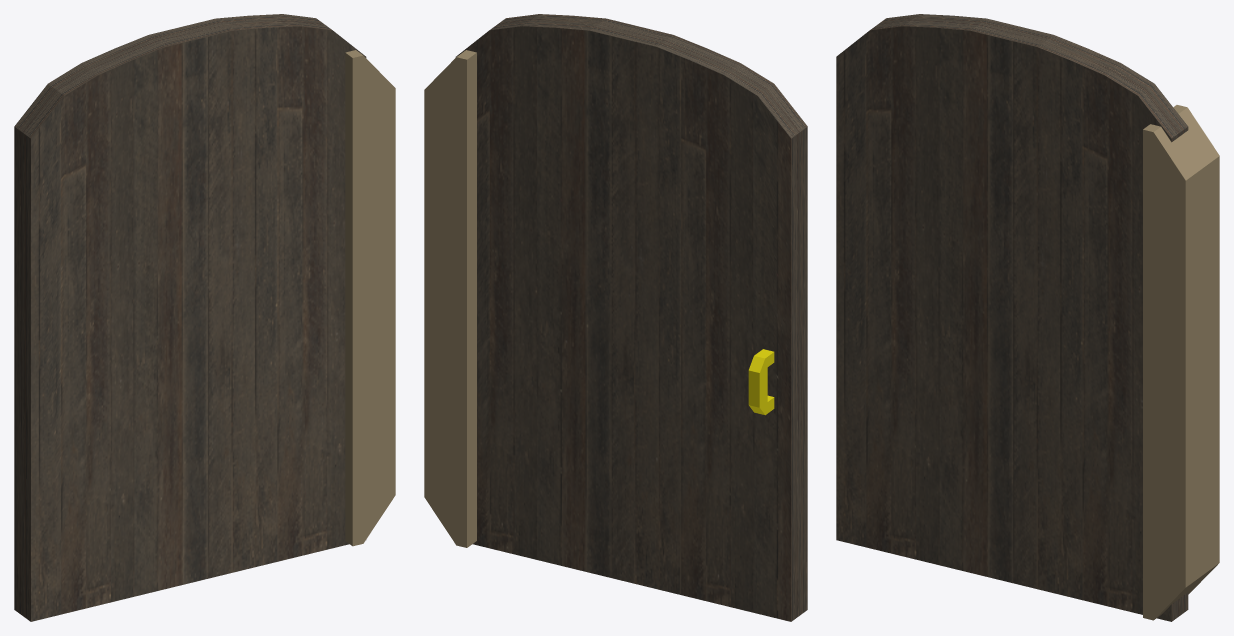
File: Left_PalisadeDoor.fbx
3 renders of one model, left to right at view 1: azimuth 30°, elevation 25°; view 2: azimuth 150°, elevation 25°; view 3: azimuth 330°, elevation 25°, orthographic.
Visible parts, largest first — view 1: LeftDoor, LeftDoorFrame; view 2: LeftDoor, LeftDoorFrame, LeftDoorHandle; view 3: LeftDoor, LeftDoorFrame.
Boxes of the visible parts, left/top/right/bottom form: LeftDoor: left=14, top=14, right=366, bottom=621; LeftDoorFrame: left=345, top=50, right=395, bottom=546; LeftDoor: left=455, top=14, right=807, bottom=621; LeftDoorFrame: left=424, top=50, right=476, bottom=547; LeftDoorHandle: left=748, top=349, right=774, bottom=415; LeftDoor: left=836, top=14, right=1188, bottom=621; LeftDoorFrame: left=1143, top=105, right=1219, bottom=620.
Bounding box in the file's own units: 3.65 × 0.6852 × 5.29.
